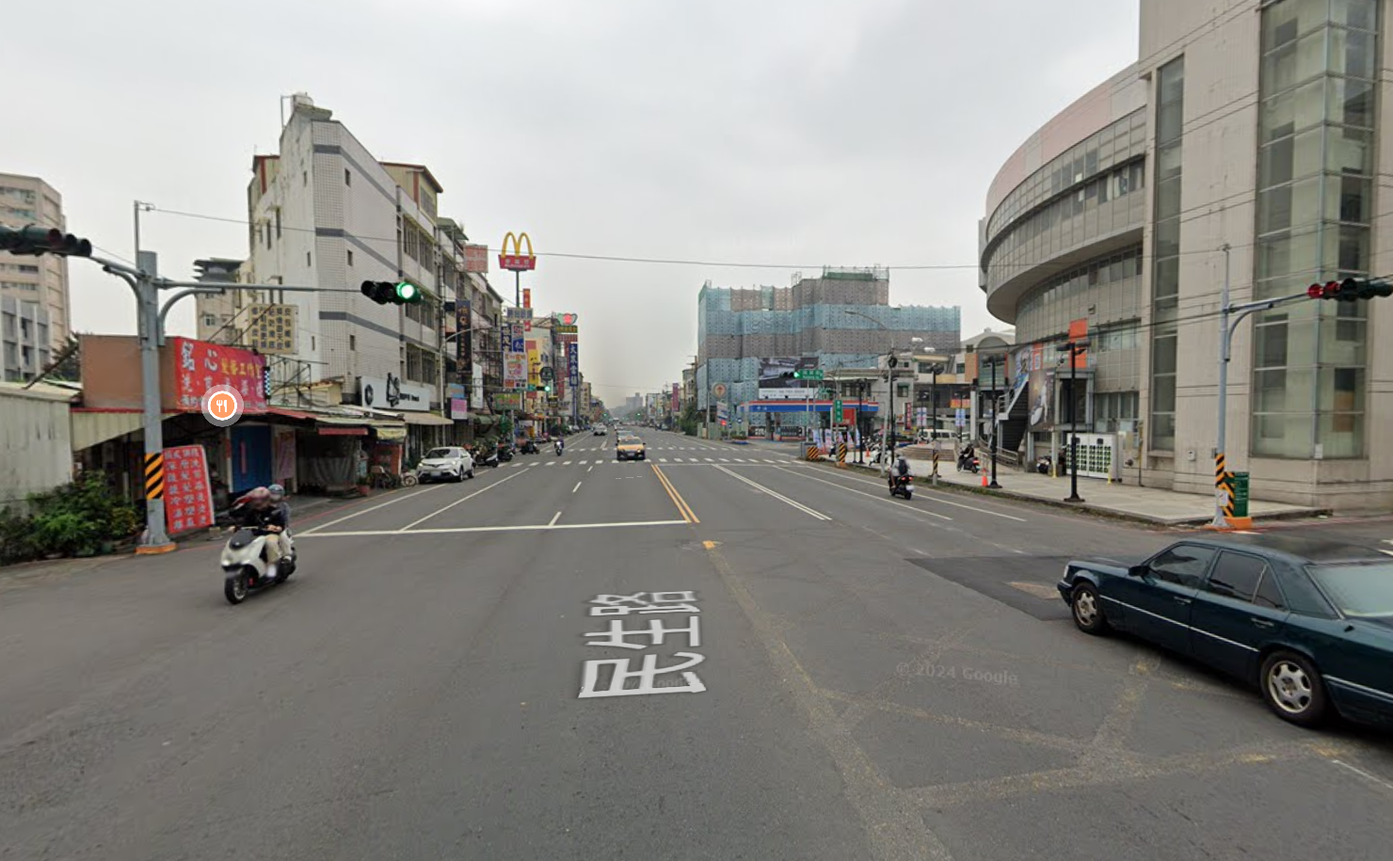green: (355, 266, 422, 307), (777, 365, 803, 383), (533, 380, 553, 395)
